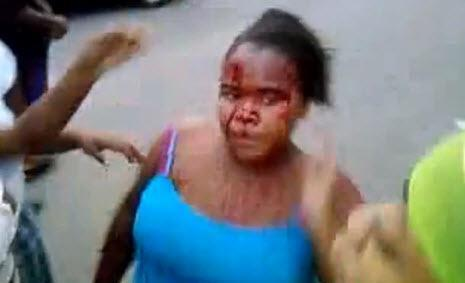Fire: (220, 53, 303, 149)
